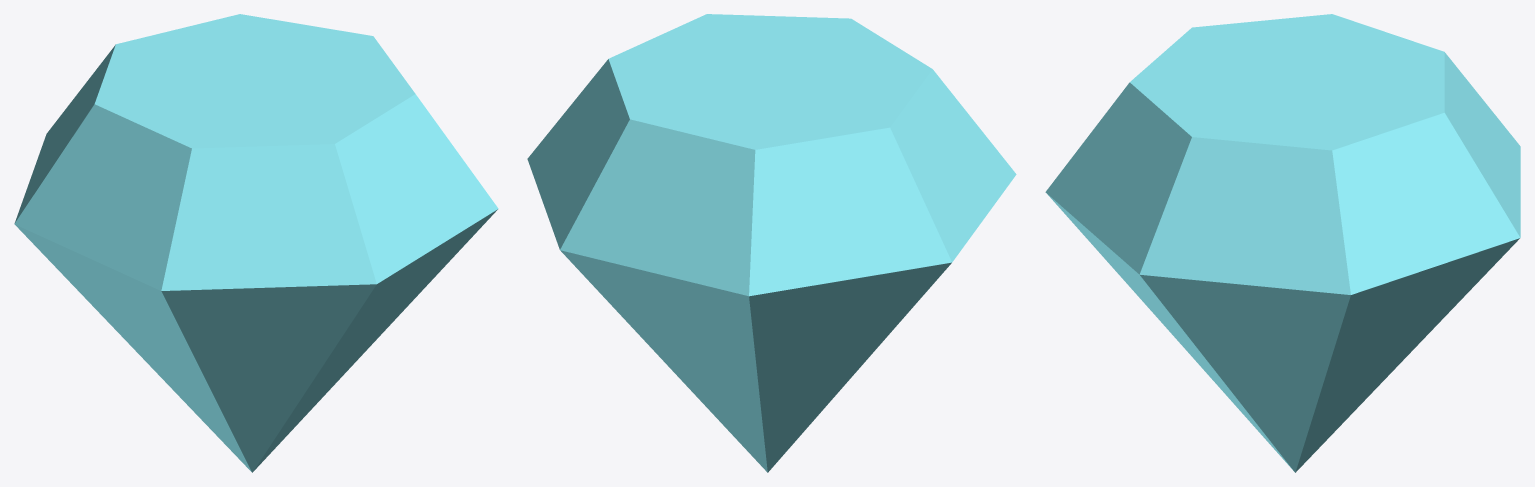
File: Diamond.fbx
The picture shows the model from 3 angles, left to right: view 1: azimuth 30°, elevation 25°; view 2: azimuth 150°, elevation 25°; view 3: azimuth 270°, elevation 25°; orthographic projection.
Parts seen in each view (by area): view 1: Cone; view 2: Cone; view 3: Cone.
Part boxes in pixels (left/top/right/bottom): Cone: left=14, top=14, right=498, bottom=472; Cone: left=527, top=14, right=1016, bottom=472; Cone: left=1045, top=14, right=1520, bottom=472.
Size of the model in its own units: 195 by 173 by 190.
